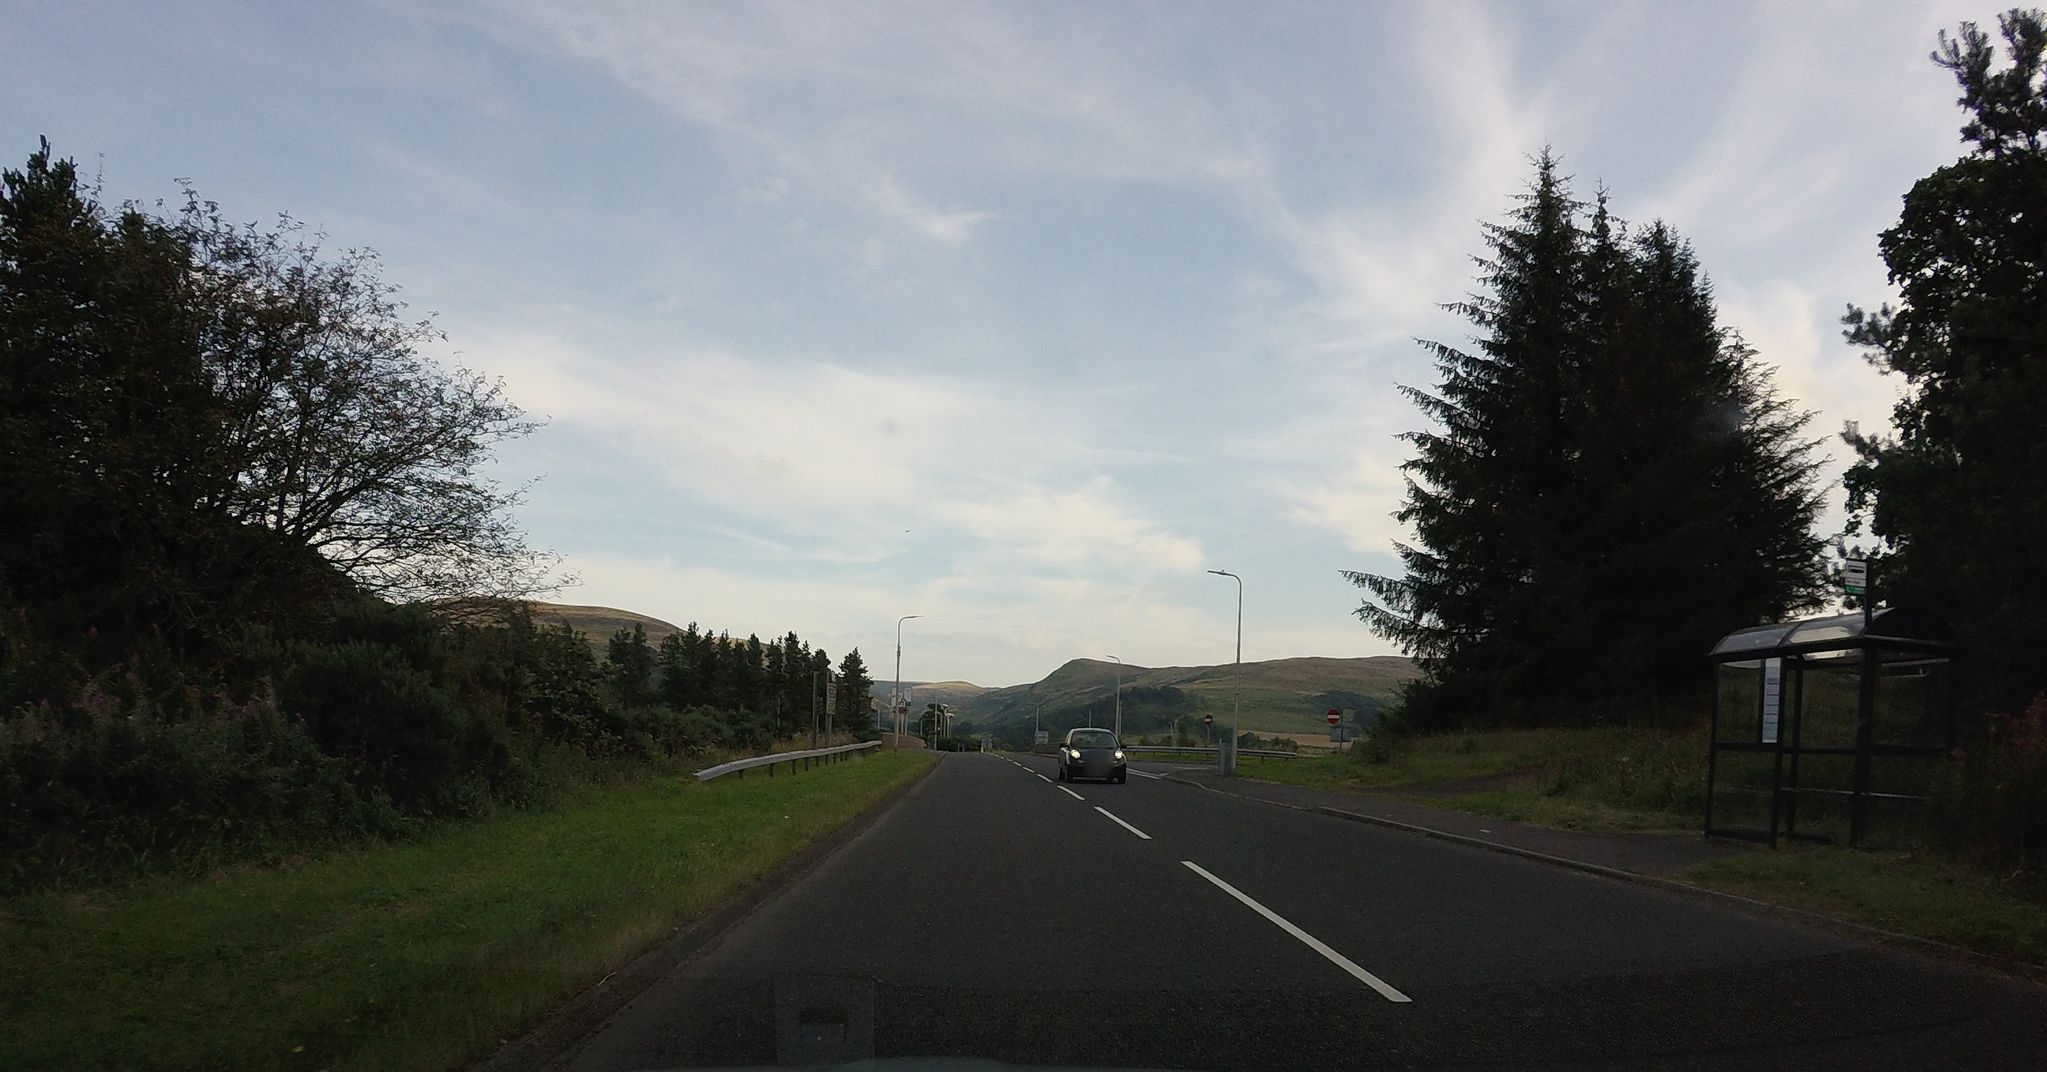car: (1057, 725, 1128, 784)
